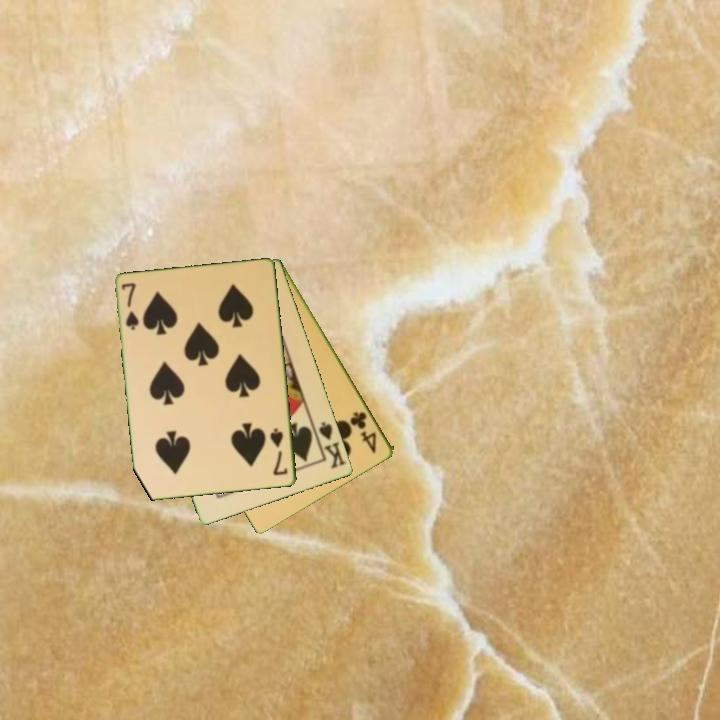4c: (347, 408, 380, 456)
7s: (267, 425, 291, 478), (118, 280, 142, 333)
Ks: (316, 418, 349, 472)
